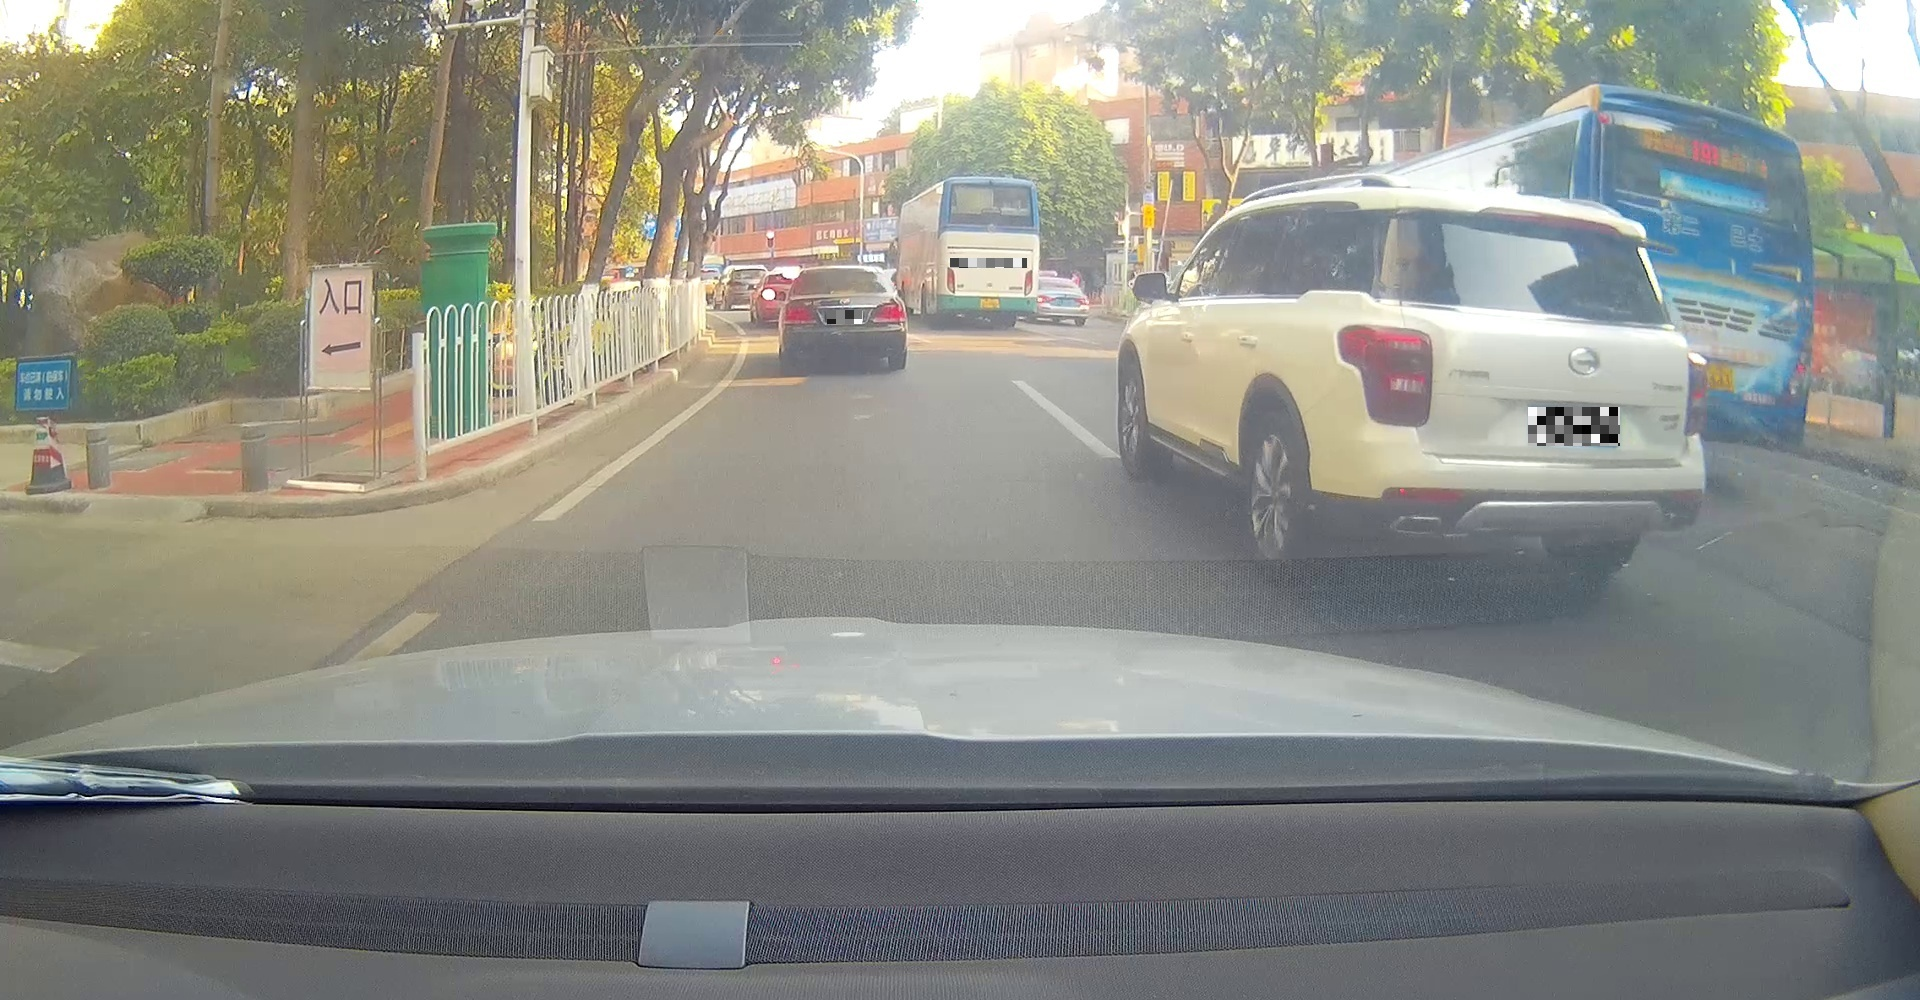L_light: (1335, 324, 1432, 426), (783, 307, 817, 324), (947, 266, 955, 293)
R_light: (1688, 353, 1709, 437), (869, 302, 905, 324), (1023, 270, 1032, 296)
T_light: (1521, 220, 1577, 230), (982, 208, 1002, 213), (830, 291, 855, 294)
day-no: (1335, 173, 1710, 576), (940, 176, 1039, 327), (782, 265, 905, 369)
plate_1: (827, 310, 862, 324)
plate_2: (950, 258, 1027, 268)
plate_3: (1528, 407, 1620, 445)
